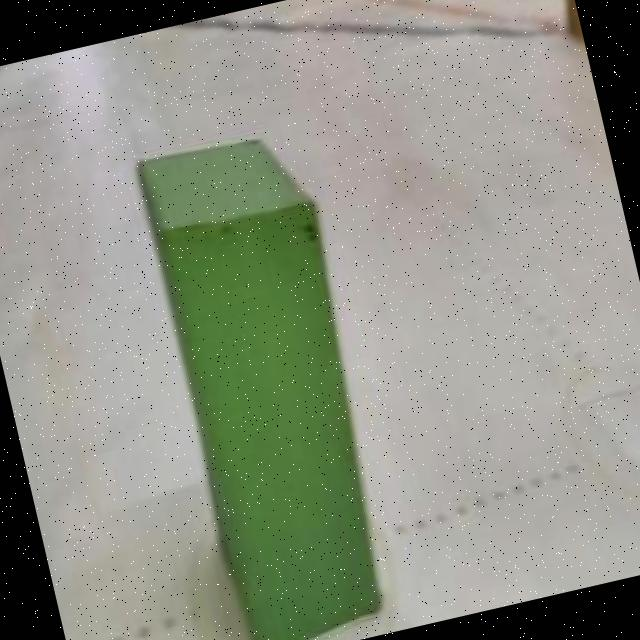greenbox: (132, 121, 416, 640)
